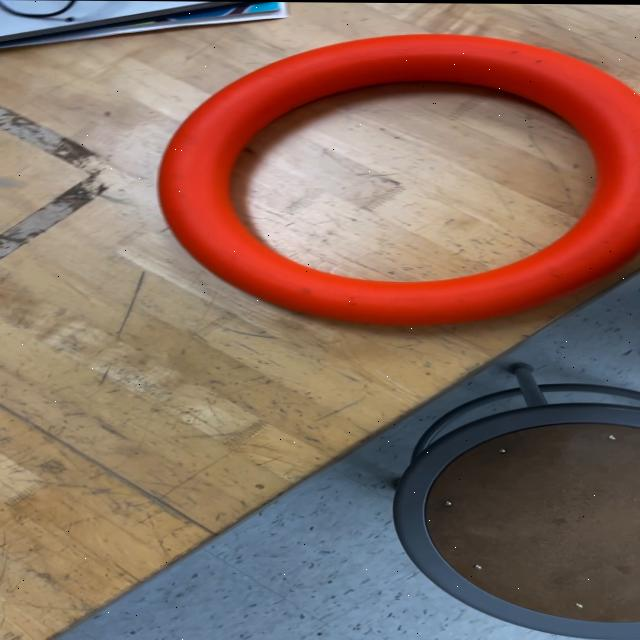note: (153, 30, 640, 328)
